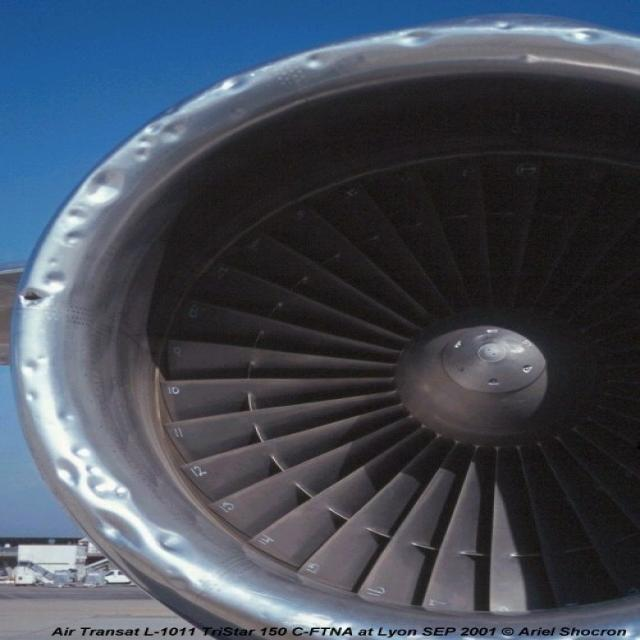dent: (18, 358, 220, 597), (65, 165, 126, 205)
